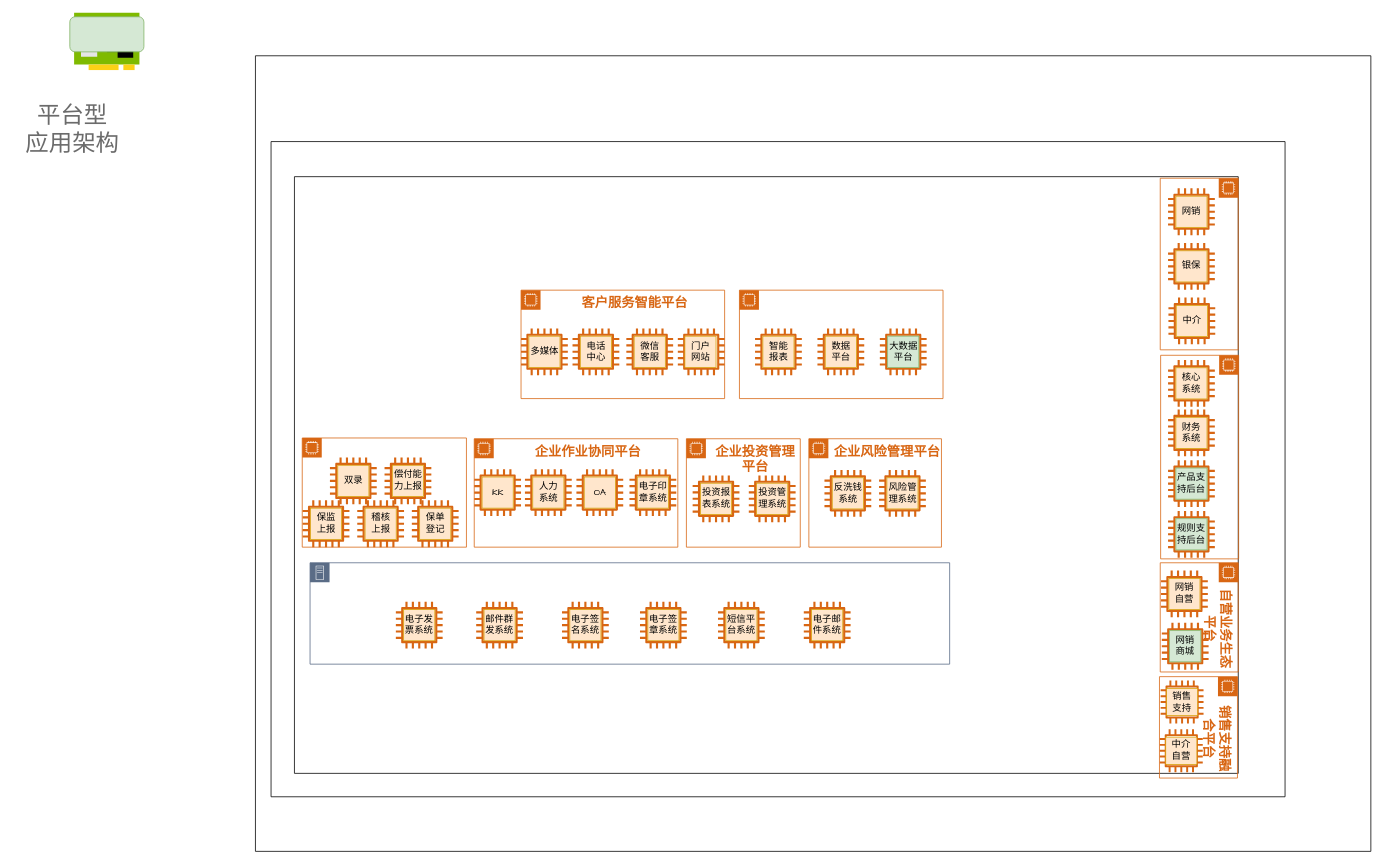
The diagram is 1385 pixels wide and 866 high, and some of its shapes have lost their labels. Each missing label, with the box of its shape:
企业数据分析中台: (739, 289, 943, 399)
前置业务平台: (1159, 177, 1238, 350)
基础软件: (309, 562, 950, 664)
核心业财支持后台: (1160, 355, 1239, 559)
理赔: (69, 16, 144, 52)
监管数据报送平台: (301, 437, 466, 547)
